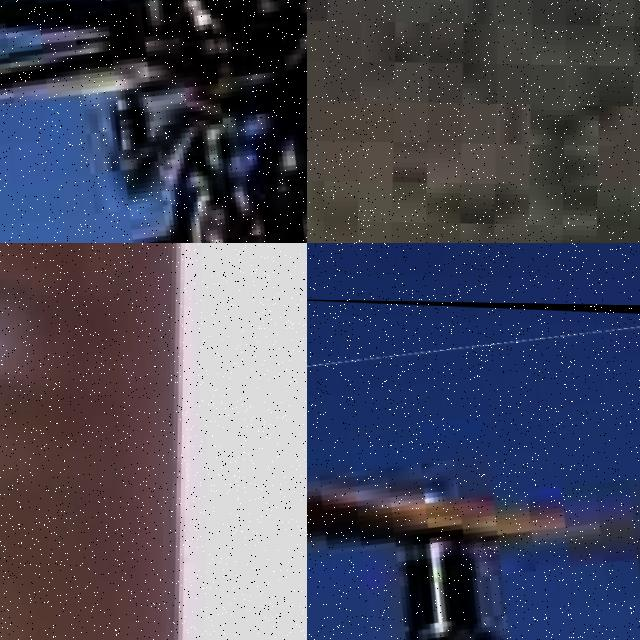drone: (307, 298, 640, 640), (0, 0, 307, 243)
